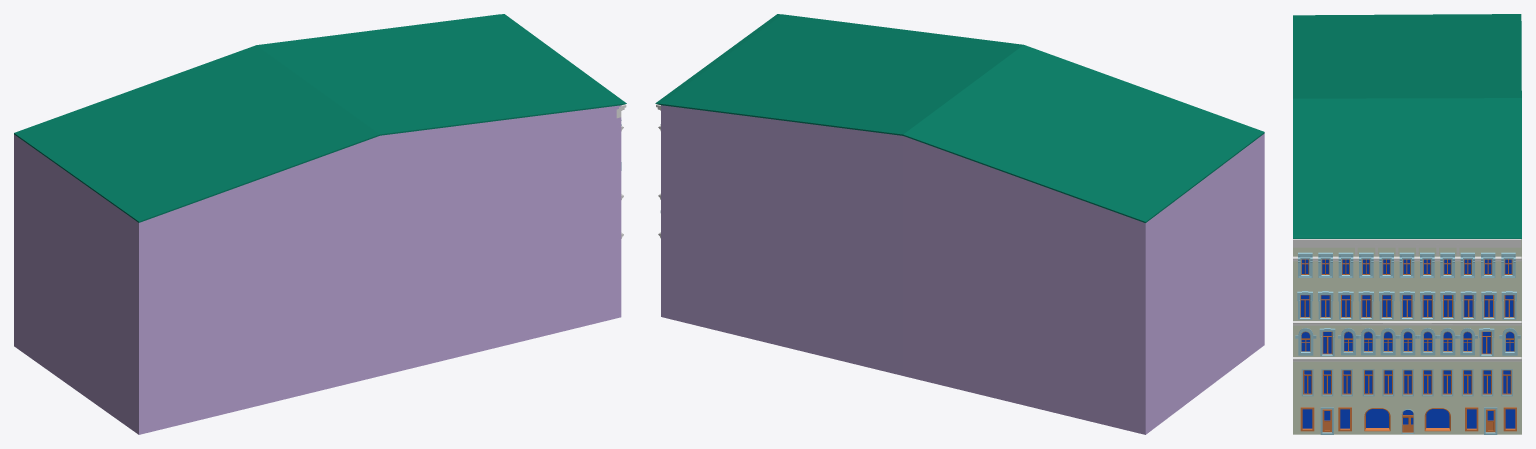
The model's file is Building_02_02.fbx.
3 views of the same model, side by side, from view 1: azimuth 30°, elevation 25°; view 2: azimuth 150°, elevation 25°; view 3: azimuth 270°, elevation 25° (orthographic). The views are drawn at different scales.
Visible parts, largest first — view 1: 0_Corpus.004; view 2: 0_Corpus.004; view 3: 0_Corpus.004, Window 2 arr.002, Window 1 arr.002, Window 3 _ arr.002, Window 4 arr.029, Window 5.015, Window 6.002, BalconyBelt.027, BalconyBelt.028, RoofHead4.003, Window 4 arr.030, Window 4 arr.031 (+9 smaller).
Boxes of the visible parts, x1,y1,x2,y2 form: 0_Corpus.004: (14,14,626,434); 0_Corpus.004: (655,14,1264,434); 0_Corpus.004: (1293,14,1521,434); Window 2 arr.002: (1297,291,1516,319); Window 1 arr.002: (1298,252,1515,277); Window 3 _ arr.002: (1338,328,1477,355); Window 4 arr.029: (1362,369,1453,396); Window 5.015: (1300,407,1516,431); Window 6.002: (1364,408,1450,431); BalconyBelt.027: (1293,321,1521,325); BalconyBelt.028: (1293,357,1521,361); RoofHead4.003: (1293,243,1521,247); Window 4 arr.030: (1461,369,1512,396); Window 4 arr.031: (1301,369,1352,396).
Size of the model in its own units: 13016 by 6126 by 5620.
